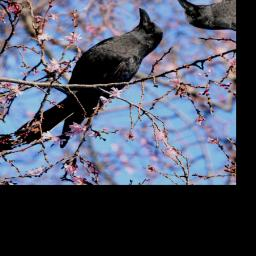Crow: (0, 4, 209, 159)
